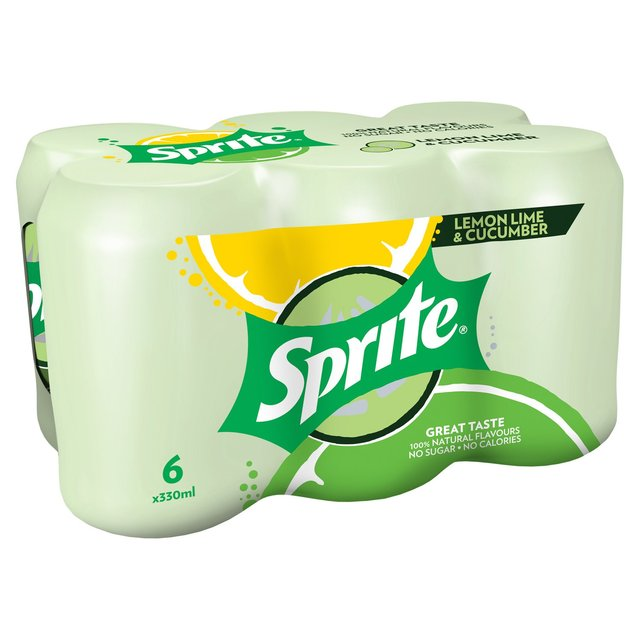sprite: (255, 279, 458, 424), (257, 279, 458, 424), (147, 130, 291, 160)
